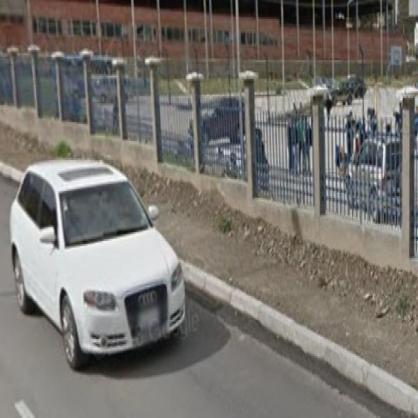car: (14, 159, 192, 363)
